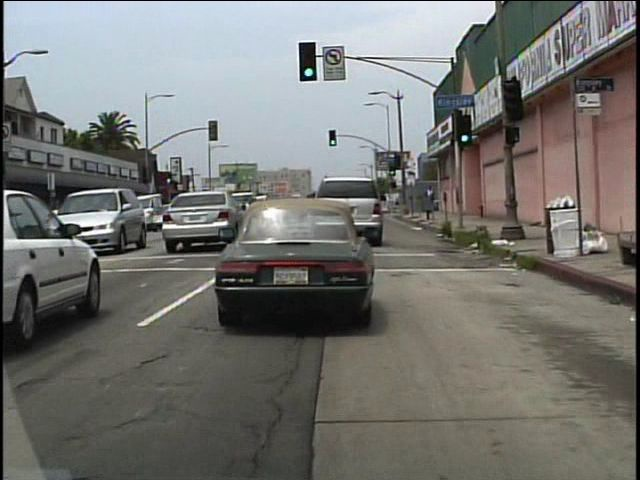person: (422, 183, 436, 213)
